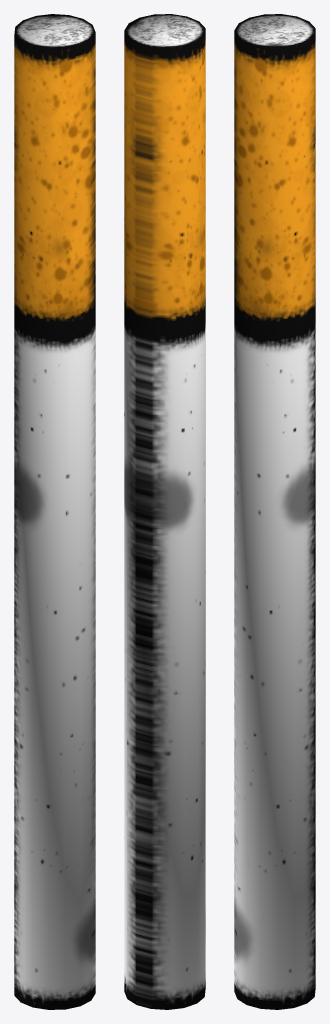
The model's file is cigarette.obj.
3 views of the same model, side by side, from view 1: azimuth 90°, elevation 25°; view 2: azimuth 150°, elevation 25°; view 3: azimuth 270°, elevation 25° (orthographic).
Parts seen in each view (by area): view 1: Cigarette; view 2: Cigarette; view 3: Cigarette.
Part boxes in pixels (left/top/right/bottom): Cigarette: left=14, top=14, right=95, bottom=1009; Cigarette: left=124, top=14, right=205, bottom=1009; Cigarette: left=234, top=14, right=315, bottom=1009.
Size of the model in its own units: 0.0297 by 0.3882 by 0.0296.
